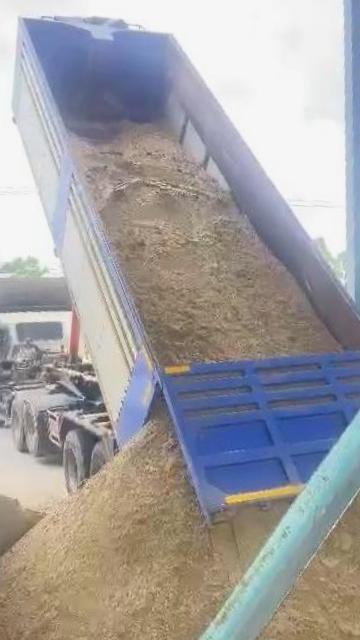sand: (73, 126, 339, 362), (0, 420, 277, 640), (199, 489, 360, 640), (0, 469, 41, 588)
